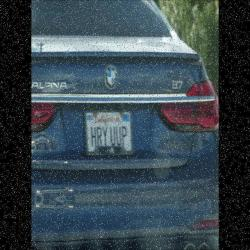LicensePlate: (78, 106, 142, 164)
